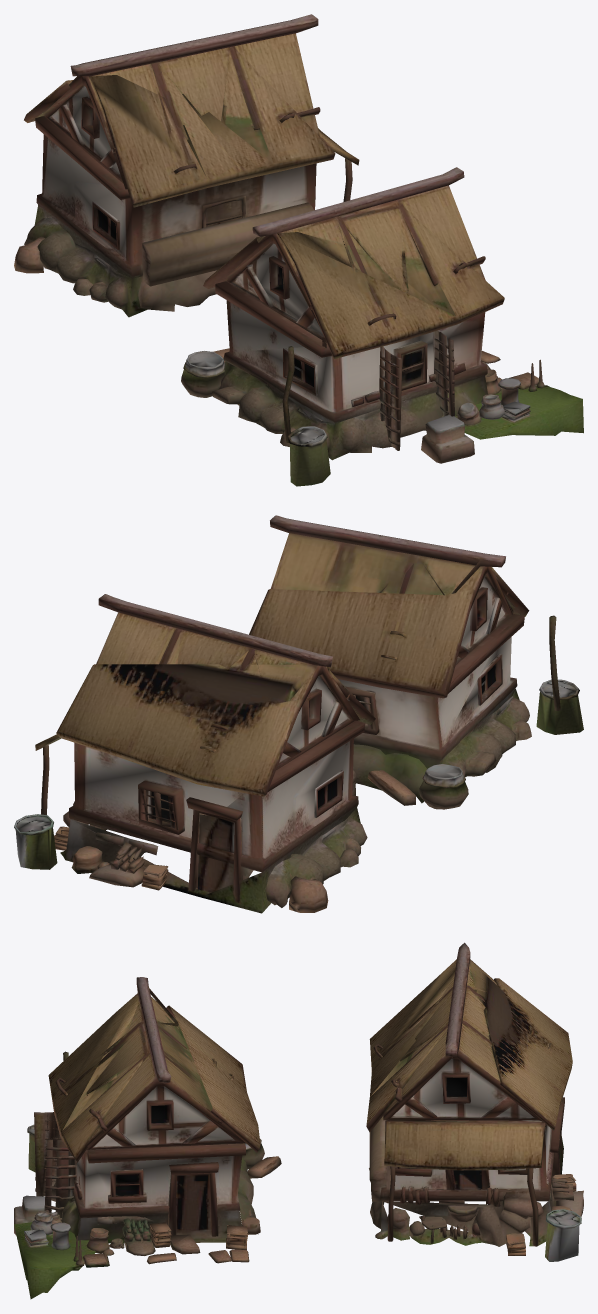
Rendered from shadow-market.glb.
3 views of the same model, one above another, from view 1: azimuth 30°, elevation 25°; view 2: azimuth 150°, elevation 25°; view 3: azimuth 270°, elevation 25° (orthographic). The views are drawn at different scales.
Visible parts, largest first — view 1: tripo_node_1538fc64-d8cb-4cf1-8cd7-562b694a3363; view 2: tripo_node_1538fc64-d8cb-4cf1-8cd7-562b694a3363; view 3: tripo_node_1538fc64-d8cb-4cf1-8cd7-562b694a3363.
Part boxes in pixels (bbox=[...]): tripo_node_1538fc64-d8cb-4cf1-8cd7-562b694a3363: bbox=[14, 14, 583, 486]; tripo_node_1538fc64-d8cb-4cf1-8cd7-562b694a3363: bbox=[14, 515, 583, 913]; tripo_node_1538fc64-d8cb-4cf1-8cd7-562b694a3363: bbox=[14, 942, 583, 1299].
Size of the model in its own units: 4.22 by 3.5 by 7.68.
Materials: 1 (1 with a texture image).
